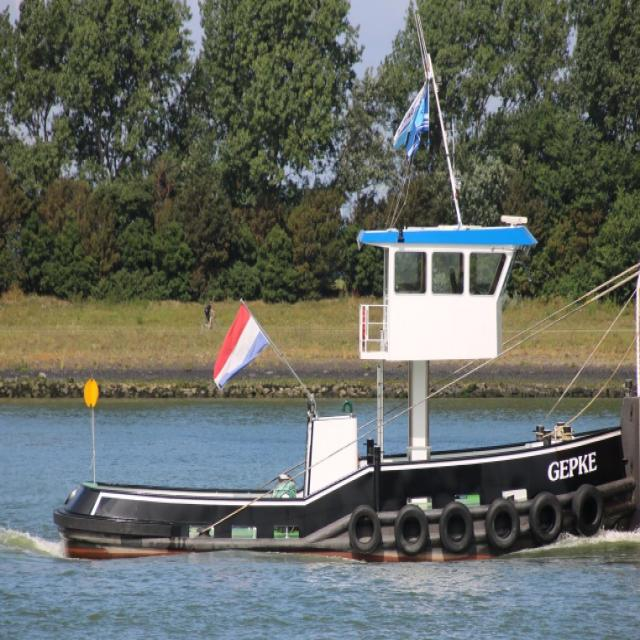tugboat: (51, 208, 640, 576)
